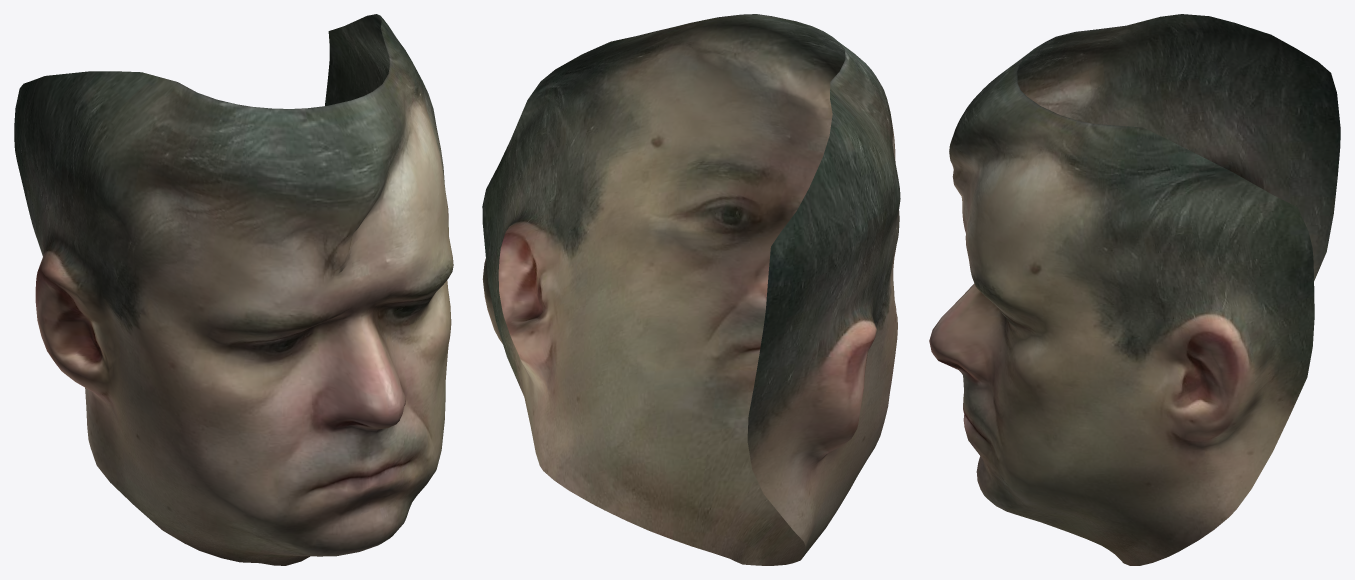
The model's file is headScanLow.glb.
3 views of the same model, side by side, from view 1: azimuth 30°, elevation 25°; view 2: azimuth 150°, elevation 25°; view 3: azimuth 270°, elevation 25° (orthographic). The views are drawn at different scales.
Parts seen in each view (by area): view 1: Node; view 2: Node; view 3: Node.
Part boxes in pixels (bbox=[...]): Node: bbox=[14, 14, 453, 565]; Node: bbox=[482, 14, 900, 565]; Node: bbox=[929, 14, 1340, 565].
Bounding box in the file's own units: 188 × 245 × 191.
Materials: 1 (1 with a texture image).
